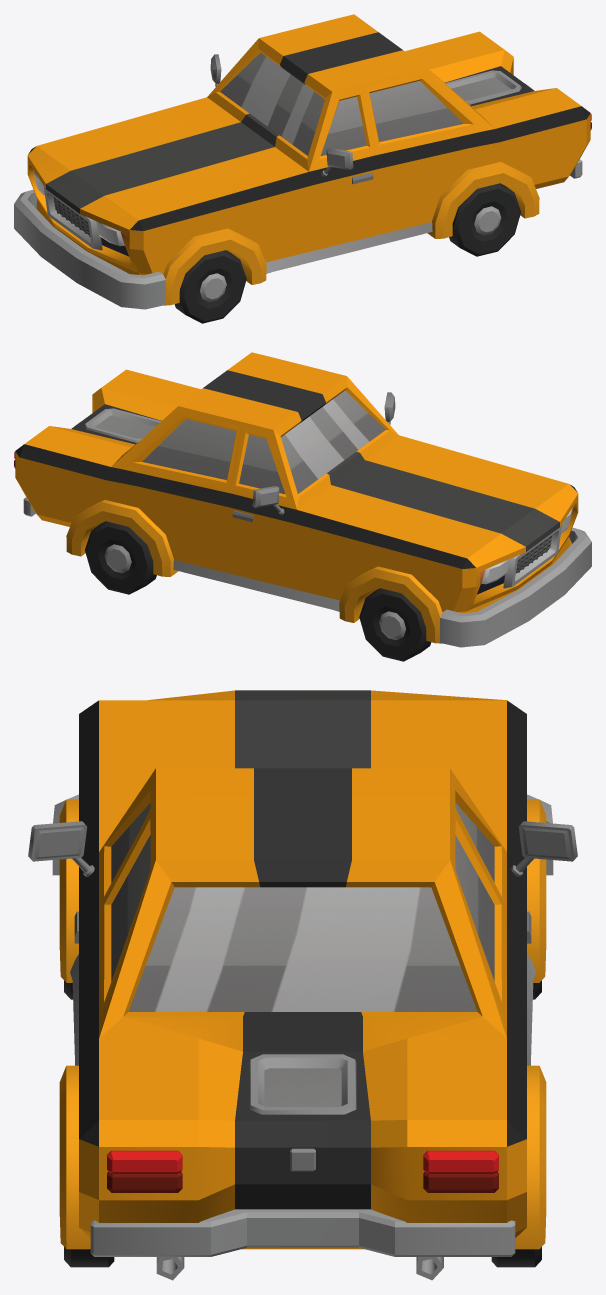
File: Car_18_B.gltf
The picture shows the model from 3 angles, top to bottom: view 1: azimuth 30°, elevation 25°; view 2: azimuth 150°, elevation 25°; view 3: azimuth 270°, elevation 25°; orthographic projection. The views are drawn at different scales.
Parts seen in each view (by area): view 1: Car_18_B, RL, FL; view 2: Car_18_B, RR, FR; view 3: Car_18_B.
Part boxes in pixels (<box>): Car_18_B: <box>14,14,591,309</box>; RL: <box>449,183,520,256</box>; FL: <box>174,250,246,323</box>; Car_18_B: <box>14,352,591,647</box>; RR: <box>85,521,156,594</box>; FR: <box>359,588,431,661</box>; Car_18_B: <box>28,690,577,1280</box>.
Bounding box in the file's own units: 3.78 × 1.34 × 1.85.
Materials: 3 (3 with a texture image).
